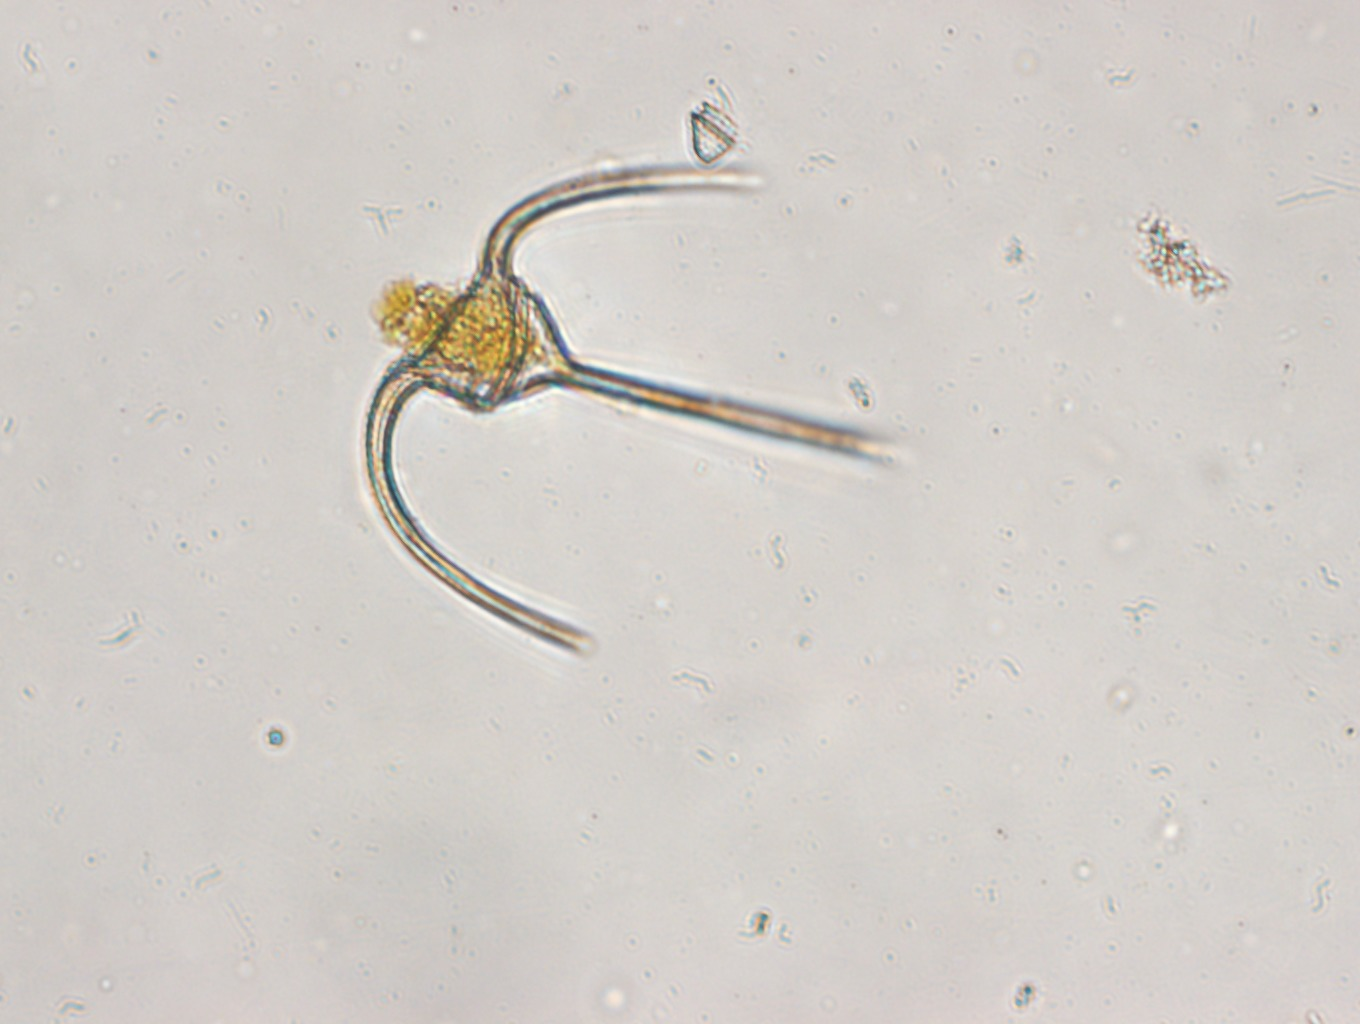ceratium trichoceros: (358, 156, 919, 662)
